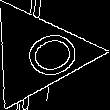O_SW: (1, 22, 75, 86)
